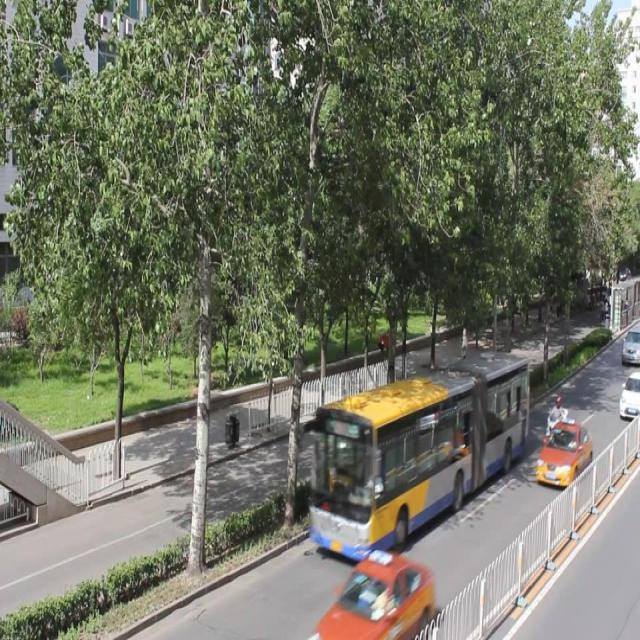car: (319, 548, 433, 640), (535, 419, 591, 486), (616, 370, 640, 418)
van: (308, 350, 526, 560)
